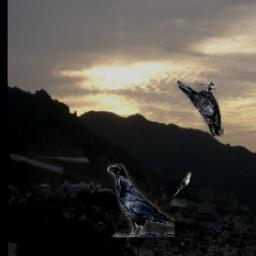Crow: (108, 165, 176, 238), (177, 81, 224, 137)
Cuckoo: (172, 172, 193, 200)
